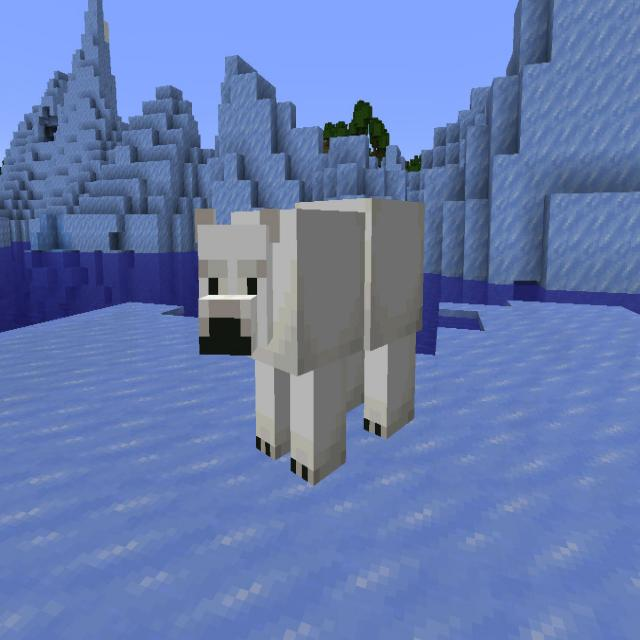Polar Bear: (193, 193, 427, 488)
